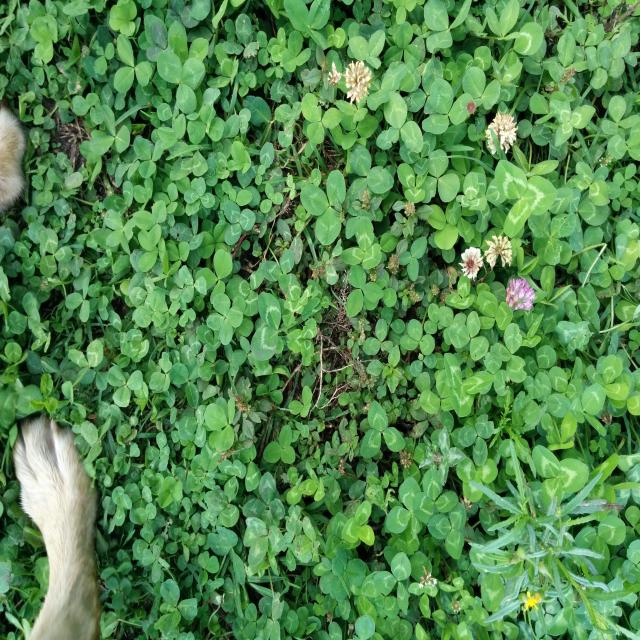Four Leaf Clover: (206, 295, 243, 345)
